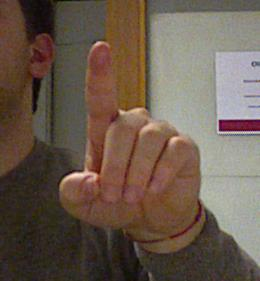up: (57, 41, 212, 239)
